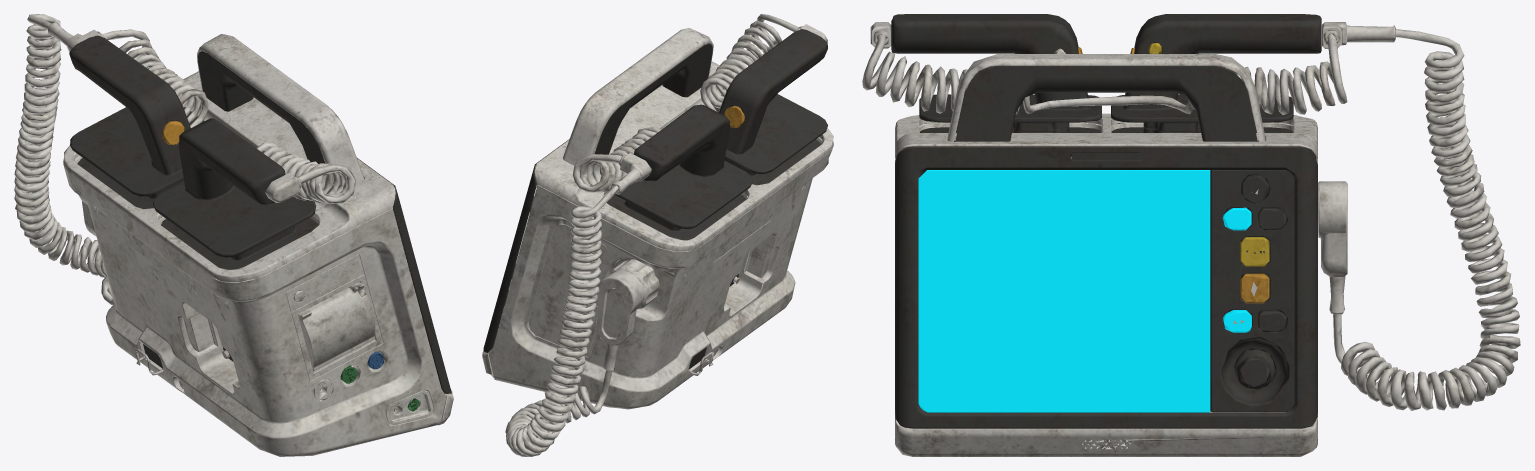
The model's file is craft_r13_lazarus_clamps.glb.
3 views of the same model, side by side, from view 1: azimuth 30°, elevation 25°; view 2: azimuth 150°, elevation 25°; view 3: azimuth 270°, elevation 25° (orthographic). The views are drawn at different scales.
Visible parts, largest first — view 1: craft_r13_lazarus_clamps; view 2: craft_r13_lazarus_clamps; view 3: craft_r13_lazarus_clamps.
Part boxes in pixels (x1,y1,x2,y2): craft_r13_lazarus_clamps: [14, 14, 453, 456]; craft_r13_lazarus_clamps: [482, 14, 833, 456]; craft_r13_lazarus_clamps: [862, 14, 1520, 456].
Size of the model in its own units: 0.2035 by 0.267 by 0.4434.
Materials: 9 (8 with a texture image).
